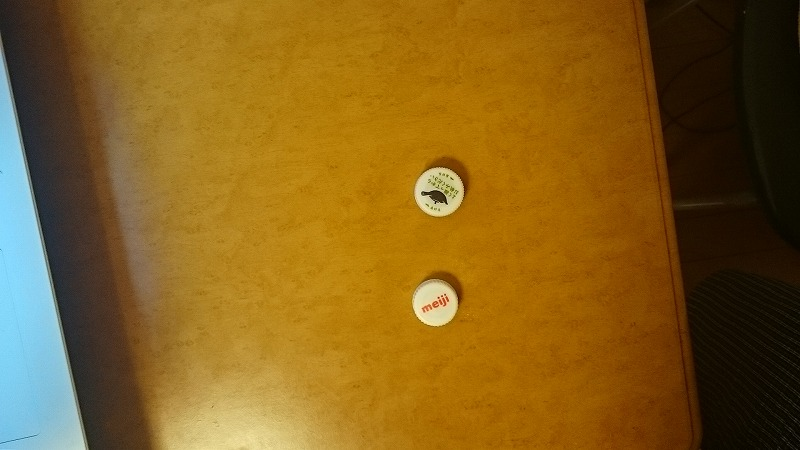A: (411, 164, 472, 227)
B: (403, 273, 468, 333)
